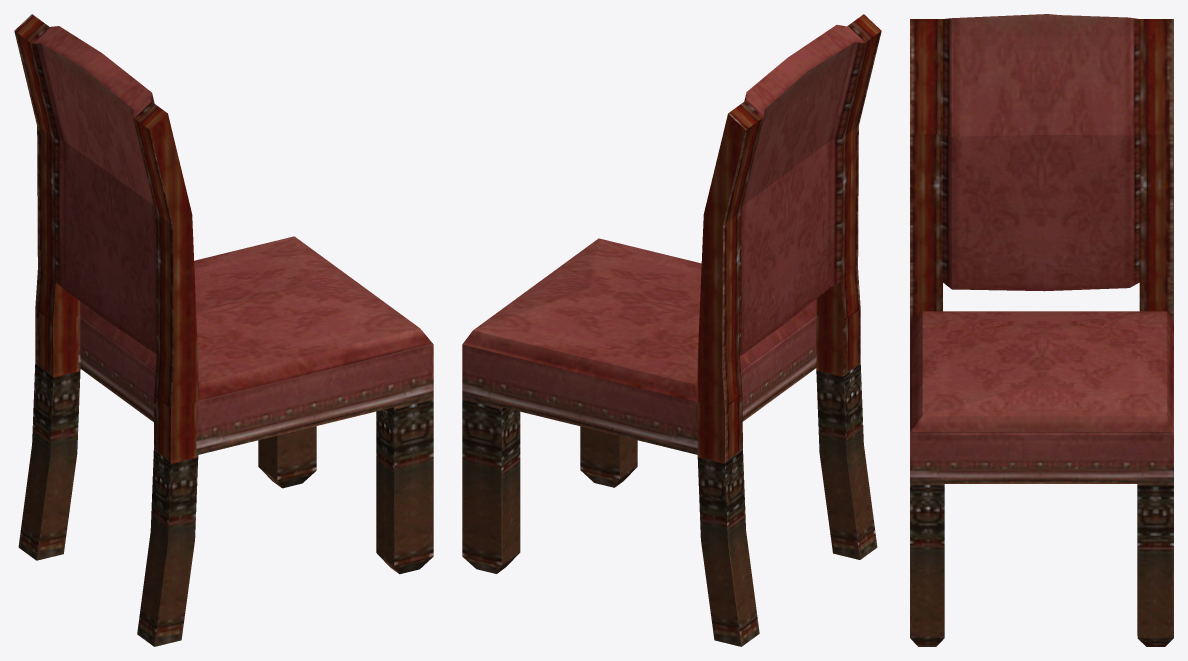
The model's file is chair2.fbx.
The picture shows the model from 3 angles, left to right: view 1: azimuth 30°, elevation 25°; view 2: azimuth 150°, elevation 25°; view 3: azimuth 270°, elevation 25°; orthographic projection. The views are drawn at different scales.
Visible parts, largest first — view 1: Mesh1; view 2: Mesh1; view 3: Mesh1.
Boxes of the visible parts, box(x1,y1,x2,y2) form: Mesh1: box(14, 14, 433, 646); Mesh1: box(462, 14, 881, 646); Mesh1: box(910, 14, 1173, 646).
Bounding box in the file's own units: 60.77 × 110 × 50.44.
